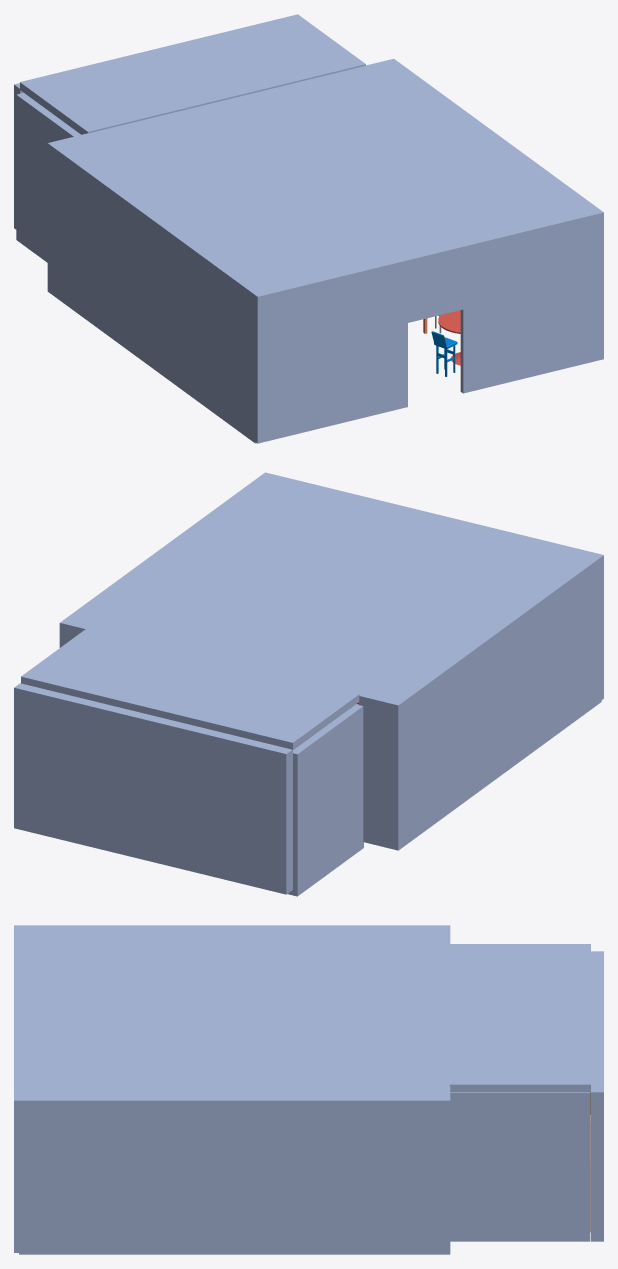
File: Nivell_2.fbx
3 renders of one model, top to bottom at view 1: azimuth 30°, elevation 25°; view 2: azimuth 150°, elevation 25°; view 3: azimuth 270°, elevation 25°, orthographic. The views are drawn at different scales.
Visible parts, largest first — view 1: paredes, pared.003, pared.002, tanburete.001; view 2: paredes, pared.004, pared.003, pared.002; view 3: paredes, pared.003, pared, pared.004.
Boxes of the visible parts, <box> form: paredes: <box>47,58,603,443</box>; pared.003: <box>20,14,365,134</box>; pared.002: <box>16,93,80,262</box>; tanburete.001: <box>431,331,457,376</box>; paredes: <box>59,472,603,850</box>; pared.004: <box>14,683,292,894</box>; pared.003: <box>21,628,359,750</box>; pared.002: <box>288,704,363,896</box>; paredes: <box>14,925,450,1254</box>; pared.003: <box>449,944,590,1092</box>; pared: <box>450,1092,589,1241</box>; pared.004: <box>590,951,603,1241</box>.
Bounding box in the file's own units: 1117 × 482 × 1587.
